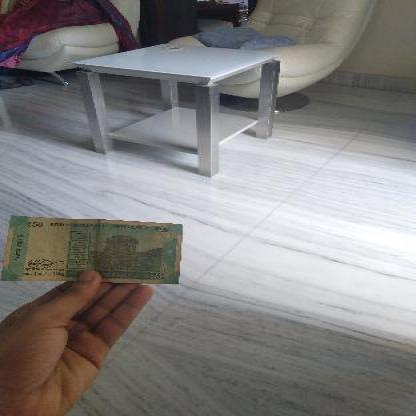New50Back: (7, 216, 182, 284)
